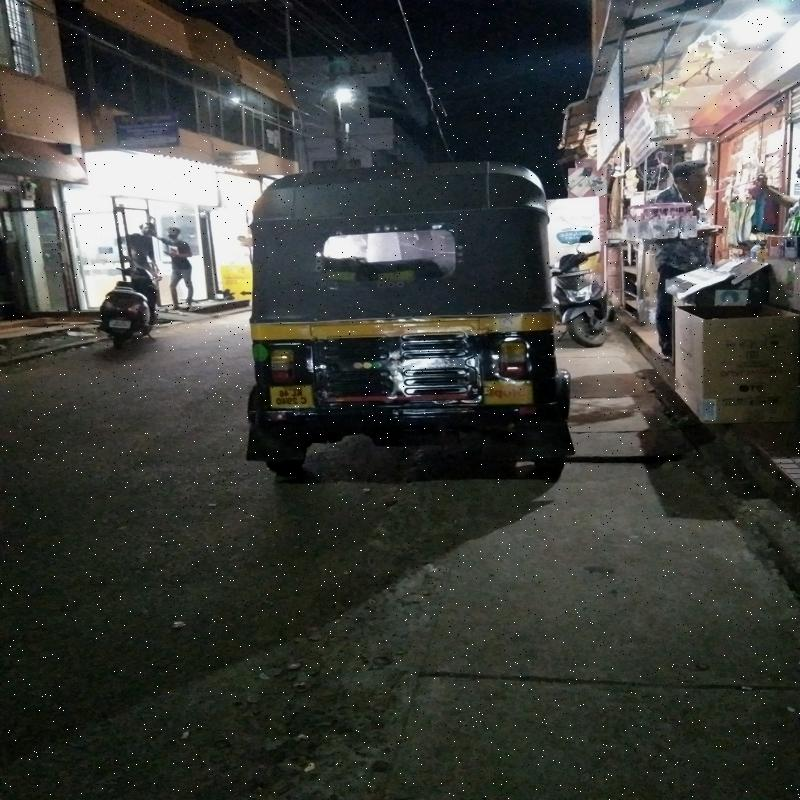auto: (253, 164, 560, 474)
